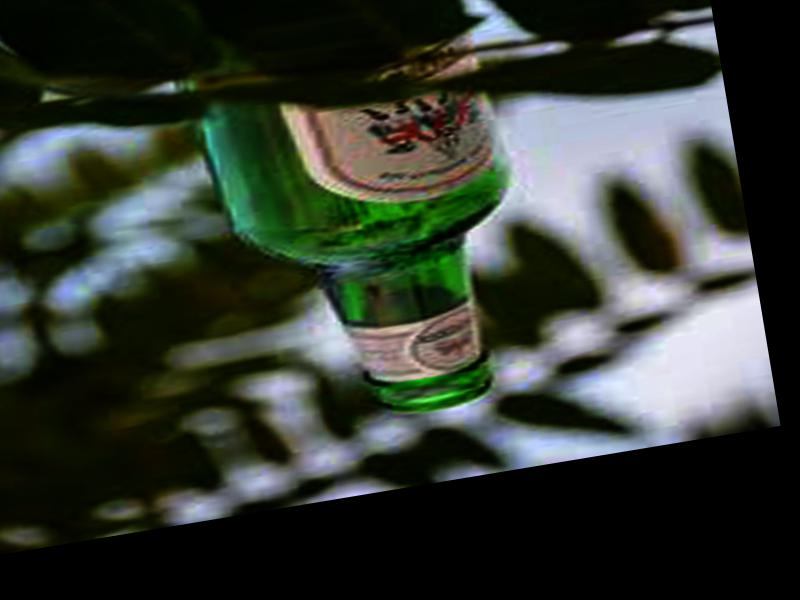Beer: (195, 23, 540, 438)
